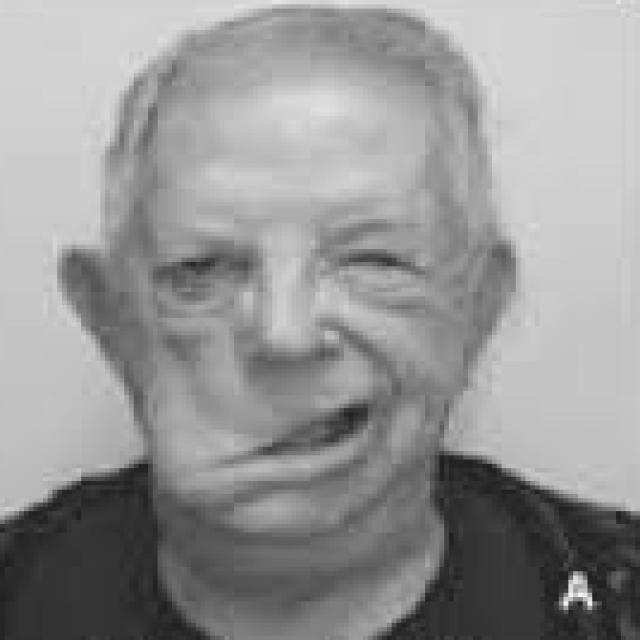stroke_face: (126, 31, 494, 556)
